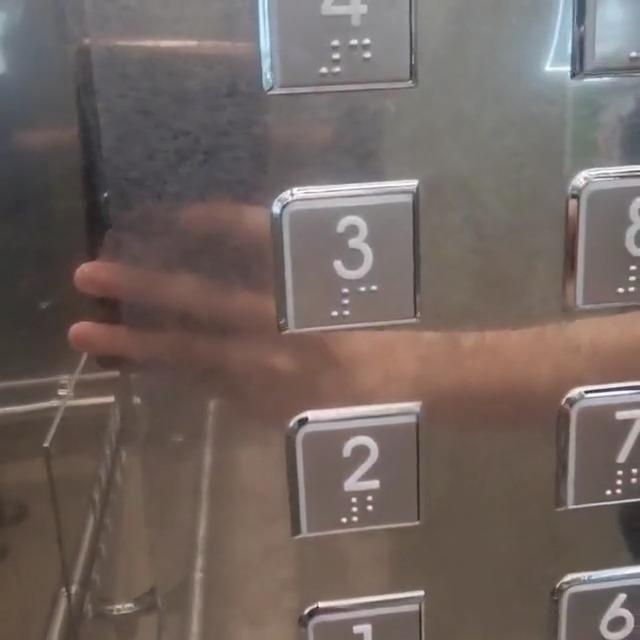button: (269, 189, 427, 330), (283, 413, 420, 528), (560, 392, 640, 500), (546, 575, 639, 640)
